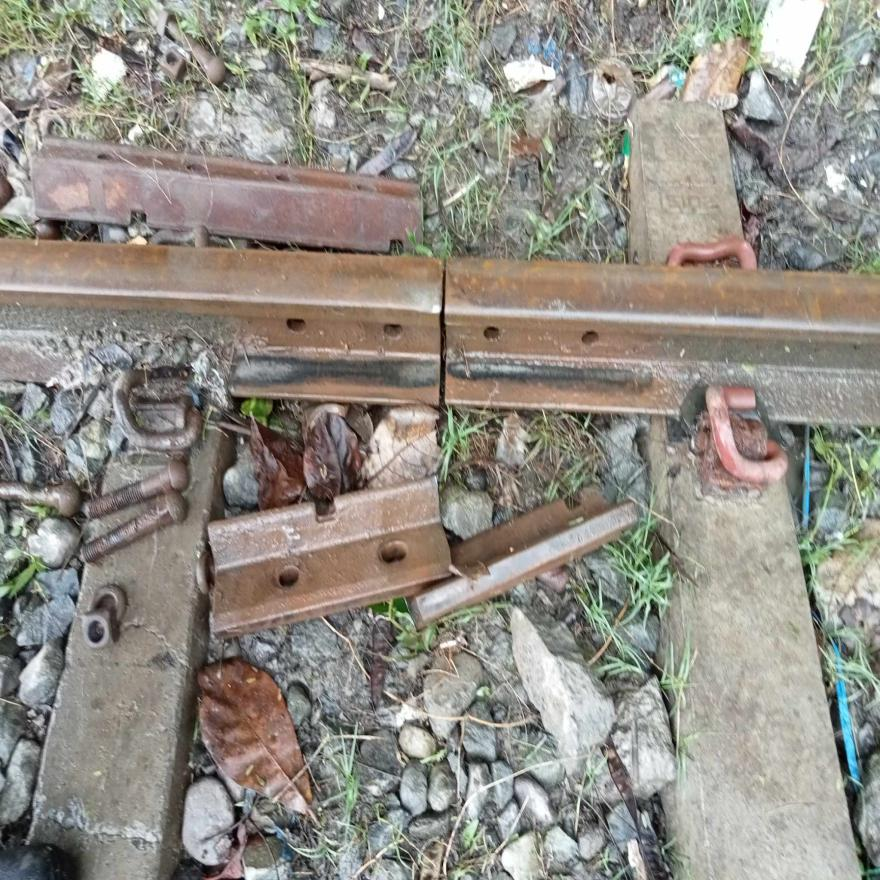railway-gap: (385, 255, 496, 407)
